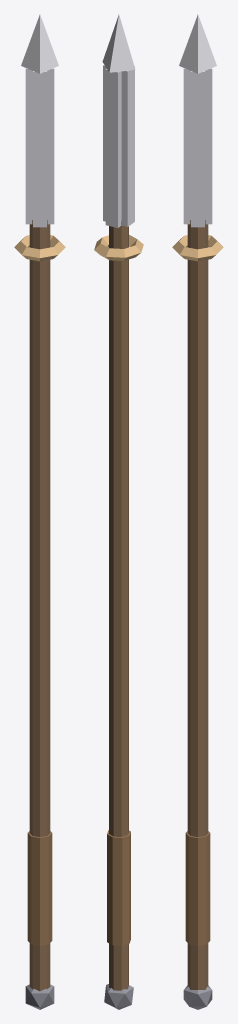
File: wpn_spear.glb
The picture shows the model from 3 angles, left to right: view 1: azimuth 90°, elevation 25°; view 2: azimuth 150°, elevation 25°; view 3: azimuth 270°, elevation 25°; orthographic projection.
Parts seen in each view (by area): view 1: Weapon_Spear; view 2: Weapon_Spear; view 3: Weapon_Spear.
Boxes of the visible parts, x1=… form: Weapon_Spear: x1=14, y1=14, x2=65, y2=1009; Weapon_Spear: x1=94, y1=14, x2=143, y2=1009; Weapon_Spear: x1=172, y1=14, x2=223, y2=1009.
Size of the model in its own units: 0.108 by 2.3 by 0.108.
